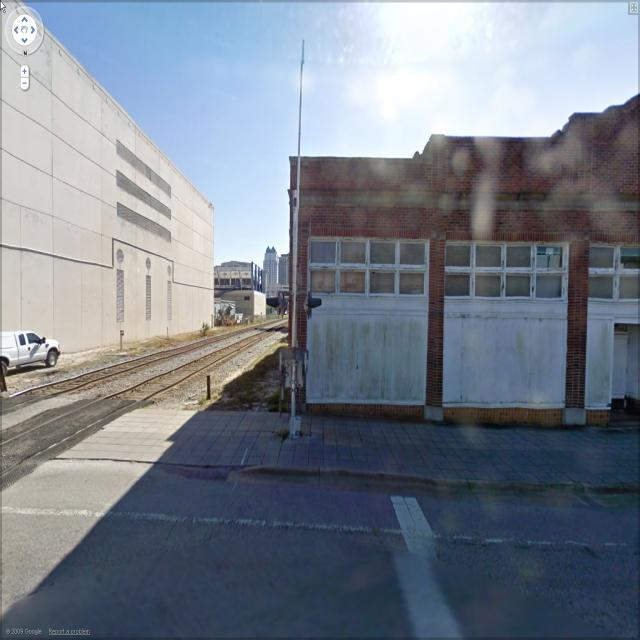b_1: (1, 12, 220, 334), (214, 260, 266, 328), (258, 245, 298, 313)
